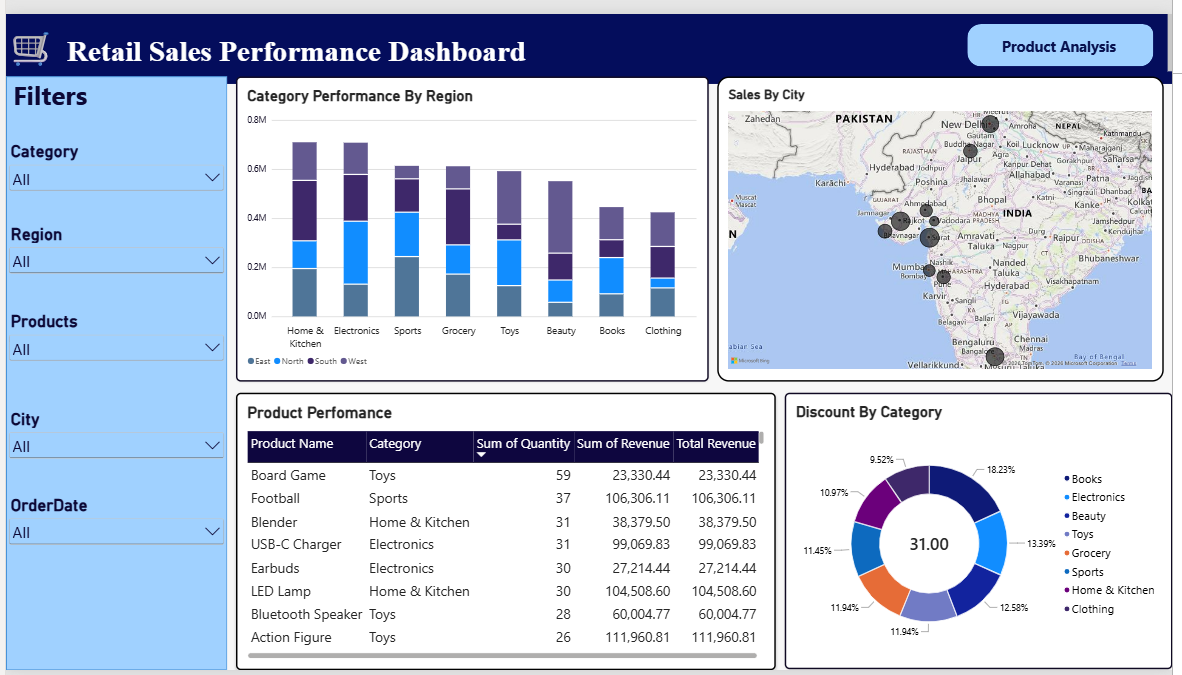

Layout of this report page (visuals, bound fields, positions):
{"tool":"powerbi","page":{"name":"Page 2","canvas":[1920,1080],"ordinal":1},"visuals":[{"type":"textbox","box":[0,0,1920.4,115.3],"z":0},{"type":"shape","box":[0,102.9,364.3,977.7],"z":1000},{"type":"textbox","box":[0,102.9,364.3,82.3],"z":2000},{"type":"slicer","fields":{"Values":["Orders.Product Name"]},"box":[0,490,364,100],"z":3000},{"type":"slicer","fields":{"Values":["Orders.Region"]},"box":[0,346,364,100],"z":4000},{"type":"slicer","fields":{"Values":["Orders.Category"]},"box":[0,210,364,100],"z":5000},{"type":"slicer","fields":{"Values":["Customers.City"]},"box":[0,650,364,100],"z":6000},{"type":"slicer","fields":{"Values":["Orders.OrderDate"]},"box":[0,792,364,100],"z":7000},{"type":"columnChart","title":"Category Performance By Region","fields":{"Category":["Orders.Category"],"Series":["Orders.Region"],"Y":["Sum(Orders.Revenue)"]},"box":[378.7,102.9,778,502.2],"z":15000},{"type":"tableEx","title":"Product Perfomance","fields":{"Values":["Orders.Product Name","Orders.Category","Sum(Orders.Quantity)","Sum(Orders.Revenue)","Customers.Total Revenue"]},"box":[378.7,623.7,889.2,456.9],"z":17000},{"type":"donutChart","title":"Discount By Category","fields":{"Category":["Orders.Category"],"Y":["Sum(Orders.Discount)"]},"box":[1282.3,623.7,638.1,454.9],"z":18000},{"type":"map","title":"Sales By City","fields":{"Category":["Customers.City"],"Size":["Sum(Orders.Revenue)"]},"box":[1171.2,102.9,734.8,502.2],"z":18001},{"type":"actionButton","box":[1582.9,17,306.7,70],"z":18002}]}

Visuals, with their boxes in screenshot pixels (x1, y1, x2, y2), scaled from the page's 1920x1080 canvas onto the 1182x675 screenshot:
textbox: (x1=0, y1=0, x2=1181, y2=72)
shape: (x1=0, y1=64, x2=224, y2=674)
textbox: (x1=0, y1=64, x2=224, y2=116)
slicer - Orders.Product Name: (x1=0, y1=306, x2=224, y2=369)
slicer - Orders.Region: (x1=0, y1=216, x2=224, y2=279)
slicer - Orders.Category: (x1=0, y1=131, x2=224, y2=194)
slicer - Customers.City: (x1=0, y1=406, x2=224, y2=469)
slicer - Orders.OrderDate: (x1=0, y1=495, x2=224, y2=558)
"Category Performance By Region" columnChart: (x1=233, y1=64, x2=712, y2=378)
"Product Perfomance" tableEx: (x1=233, y1=390, x2=781, y2=674)
"Discount By Category" donutChart: (x1=789, y1=390, x2=1181, y2=674)
"Sales By City" map: (x1=721, y1=64, x2=1173, y2=378)
actionButton: (x1=974, y1=11, x2=1163, y2=54)
